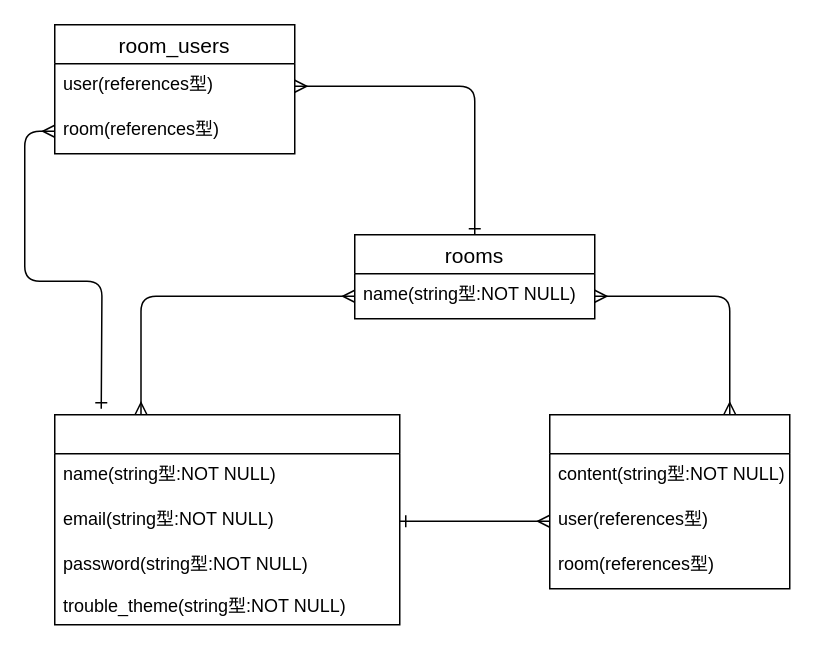
This 815x650 diagram has some shape labels left out. Each missing label, with the box of its shape:
messages: (548, 413, 790, 589)
users: (53, 413, 400, 625)
